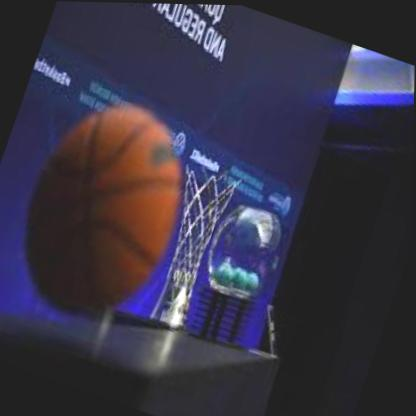basketball: (0, 83, 210, 335)
